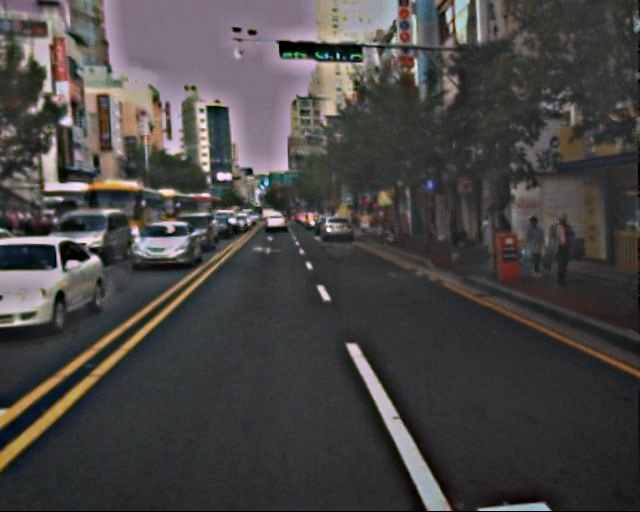person: (545, 211, 577, 289), (521, 215, 547, 279), (479, 214, 500, 266), (445, 210, 464, 256), (426, 207, 442, 245)
